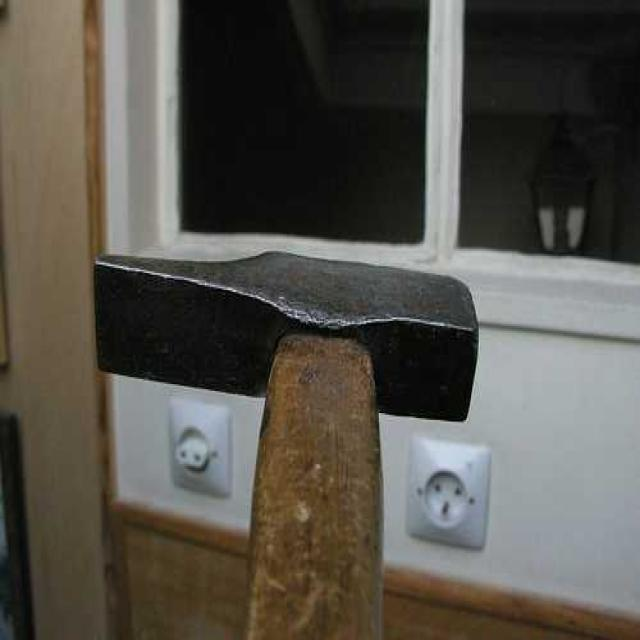hammer: (93, 251, 479, 640)
